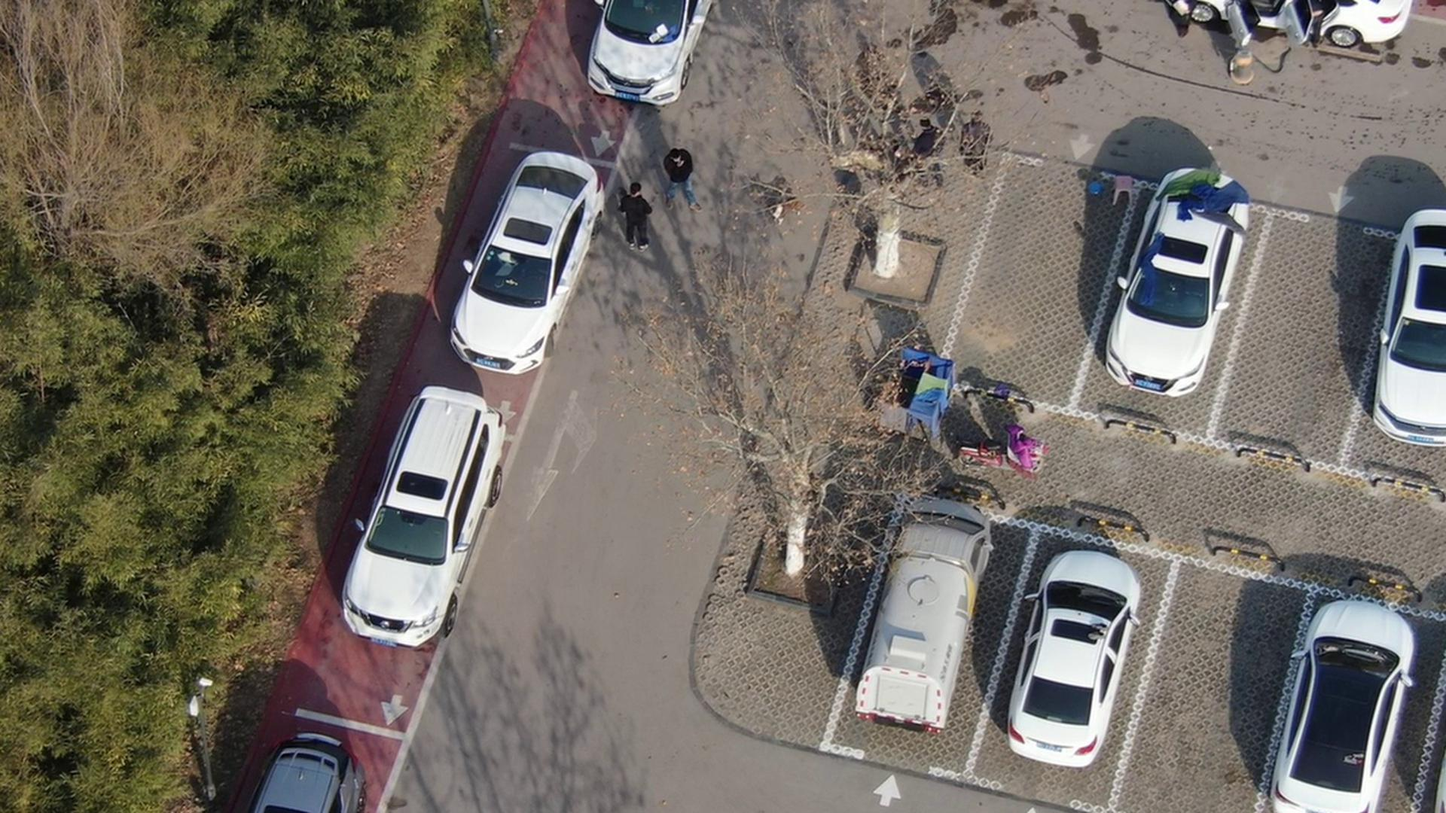human: (970, 101, 1007, 175), (624, 178, 661, 251), (924, 108, 955, 184), (675, 138, 707, 210), (1295, 1, 1333, 48)
